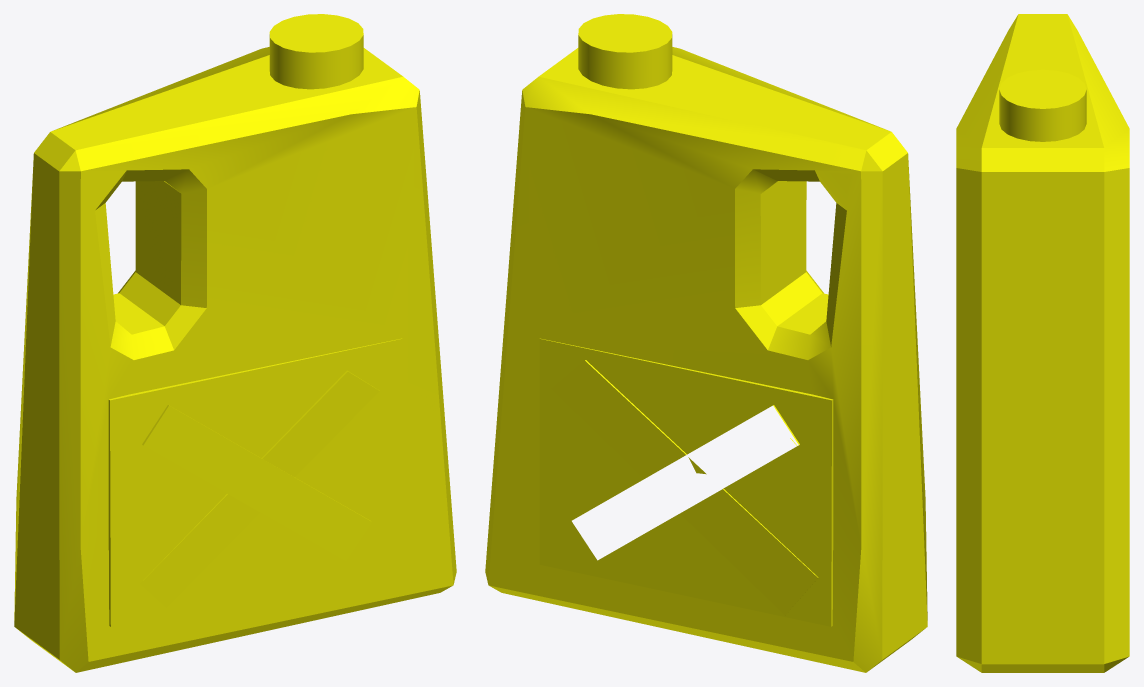
The model's file is pollutant.gltf.
The picture shows the model from 3 angles, left to right: view 1: azimuth 30°, elevation 25°; view 2: azimuth 150°, elevation 25°; view 3: azimuth 270°, elevation 25°; orthographic projection. The views are drawn at different scales.
Bounding box in the file's own units: 1.72 × 2.36 × 0.6873.
